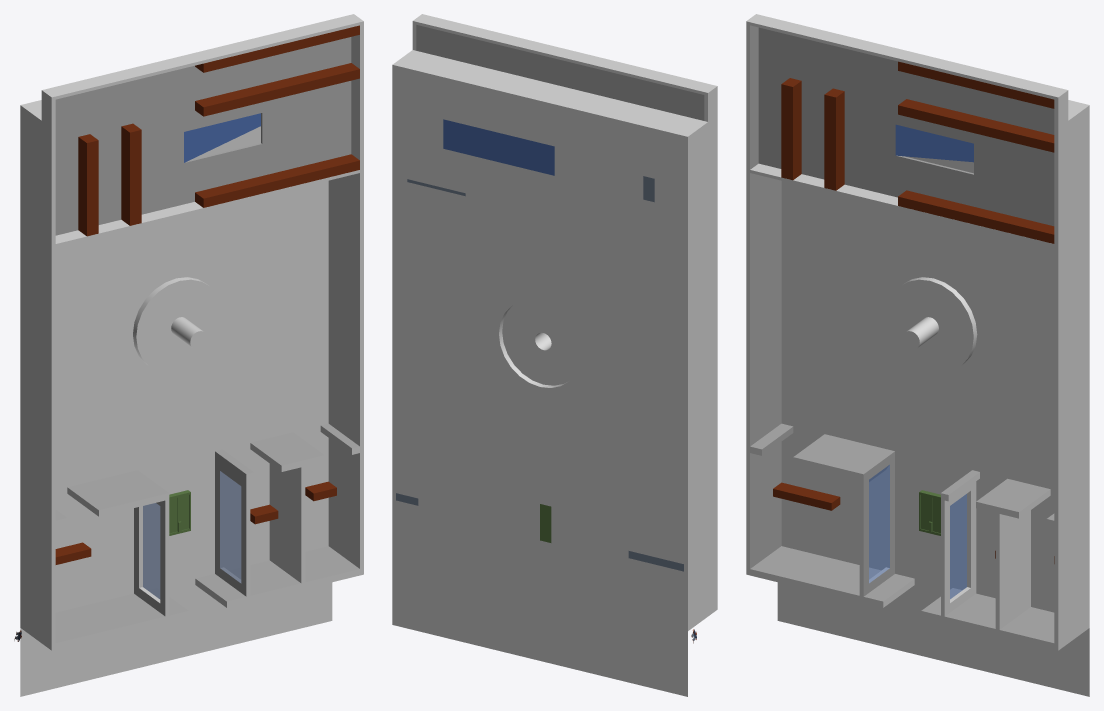
The model's file is centro comercial.fbx.
3 views of the same model, side by side, from view 1: azimuth 30°, elevation 25°; view 2: azimuth 150°, elevation 25°; view 3: azimuth 330°, elevation 25° (orthographic). The views are drawn at different scales.
Parts seen in each view (by area): view 1: Model; view 2: Model; view 3: Model.
Boxes of the visible parts, <box> form: Model: <box>20,14,363,696</box>; Model: <box>392,14,717,696</box>; Model: <box>746,14,1089,696</box>.
Bounding box in the file's own units: 64.31 × 120 × 11.
